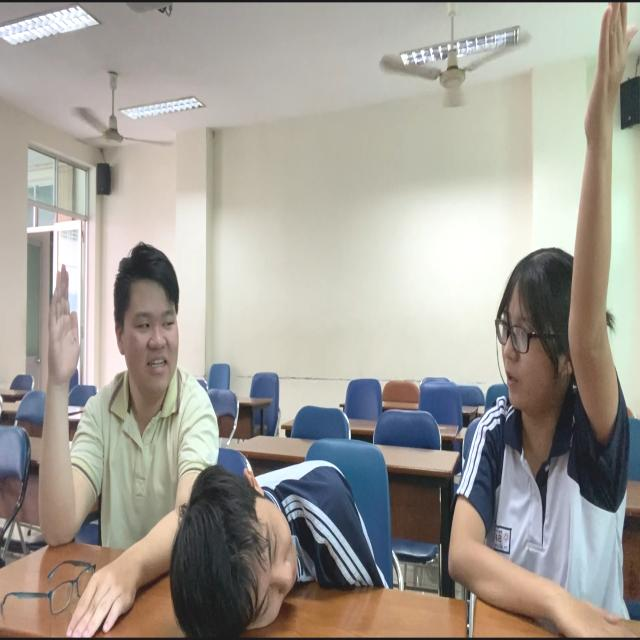raise_hand: (491, 1, 640, 640), (33, 236, 195, 589)
sleep: (164, 450, 414, 640)
